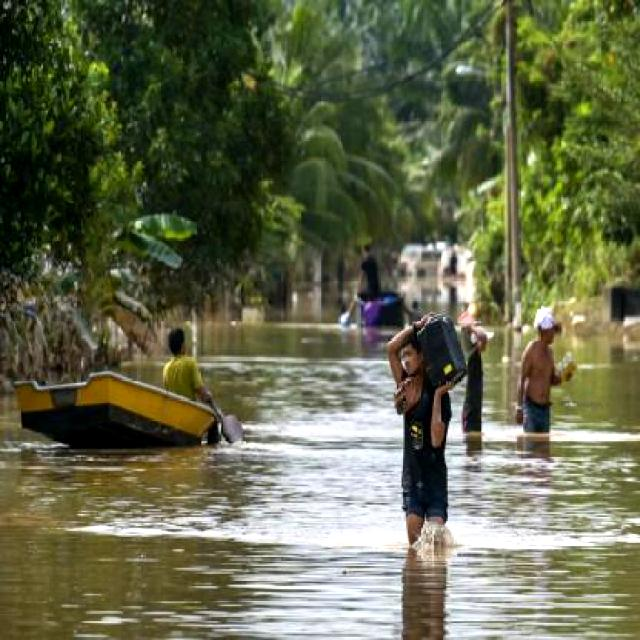civilian: (383, 311, 459, 564), (516, 296, 574, 455), (153, 323, 220, 411), (462, 316, 494, 444), (348, 238, 394, 303)
